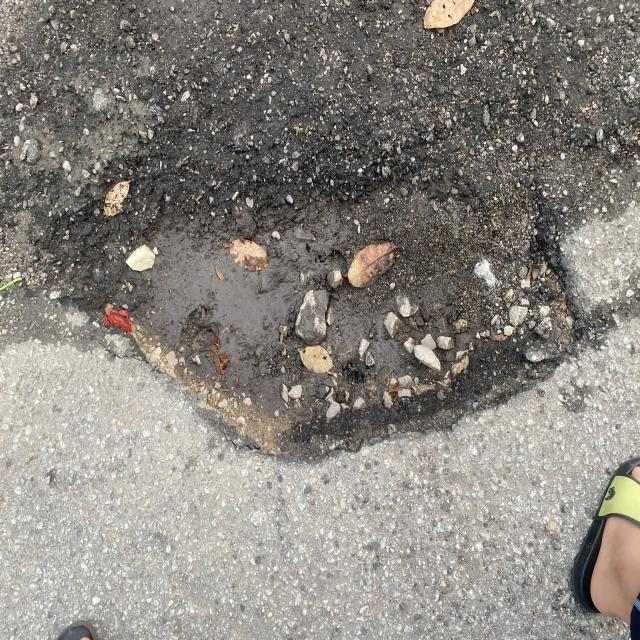Pothole: (46, 153, 614, 491)
